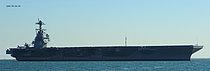MIL_Ship: (6, 18, 204, 60)
